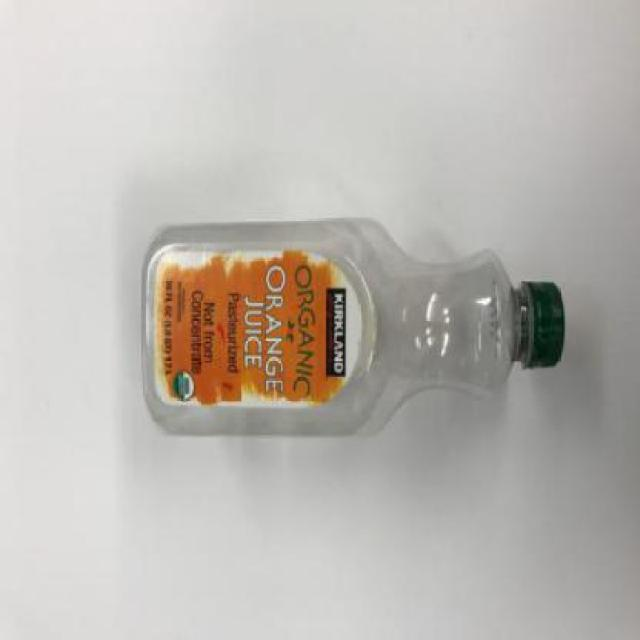Plastic: (139, 216, 566, 436)
